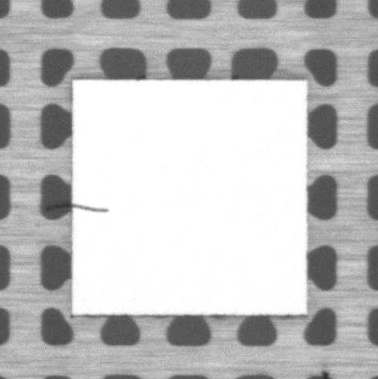DIE_INK: (73, 203, 110, 213)
